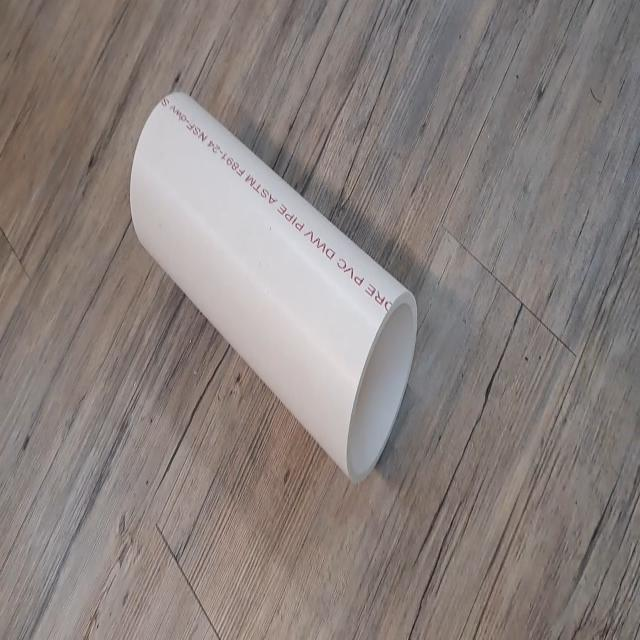CORAL: (122, 82, 423, 491)
